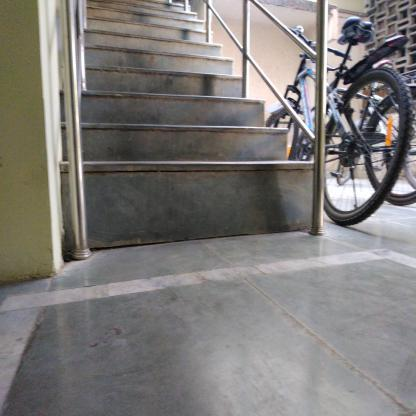stairs: (92, 11, 202, 265)
